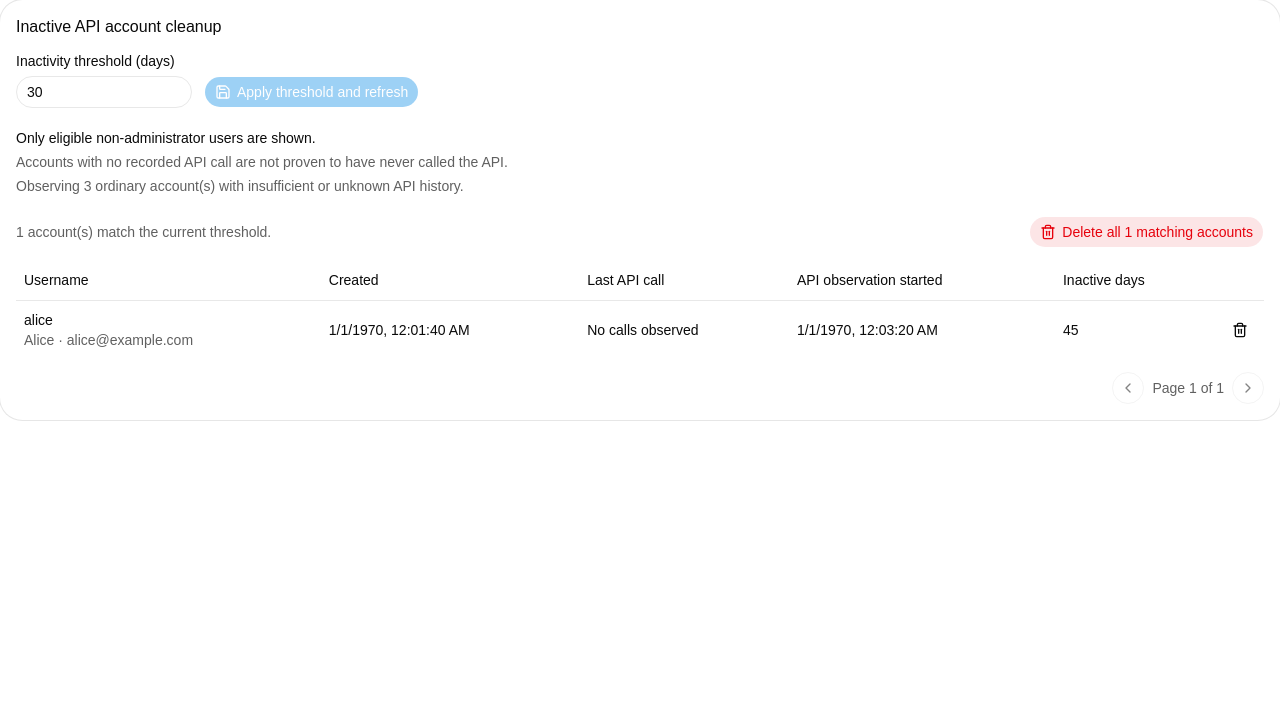
inactive API account cleanup › shows accurate partial cleanup counts
Click the button named "Delete account alice".
click(1240, 330)  # box [1224,314,1256,346]
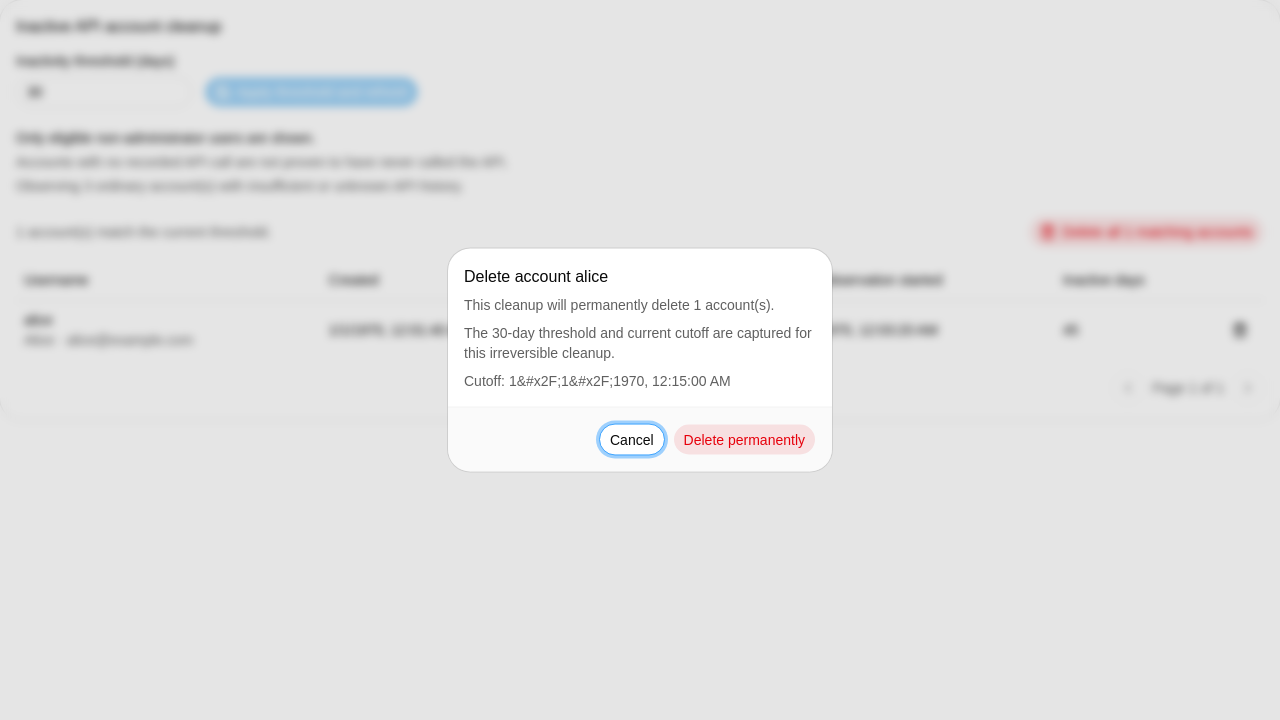
Click the button "Delete permanently".
click(744, 440)  # box [673,424,816,456]
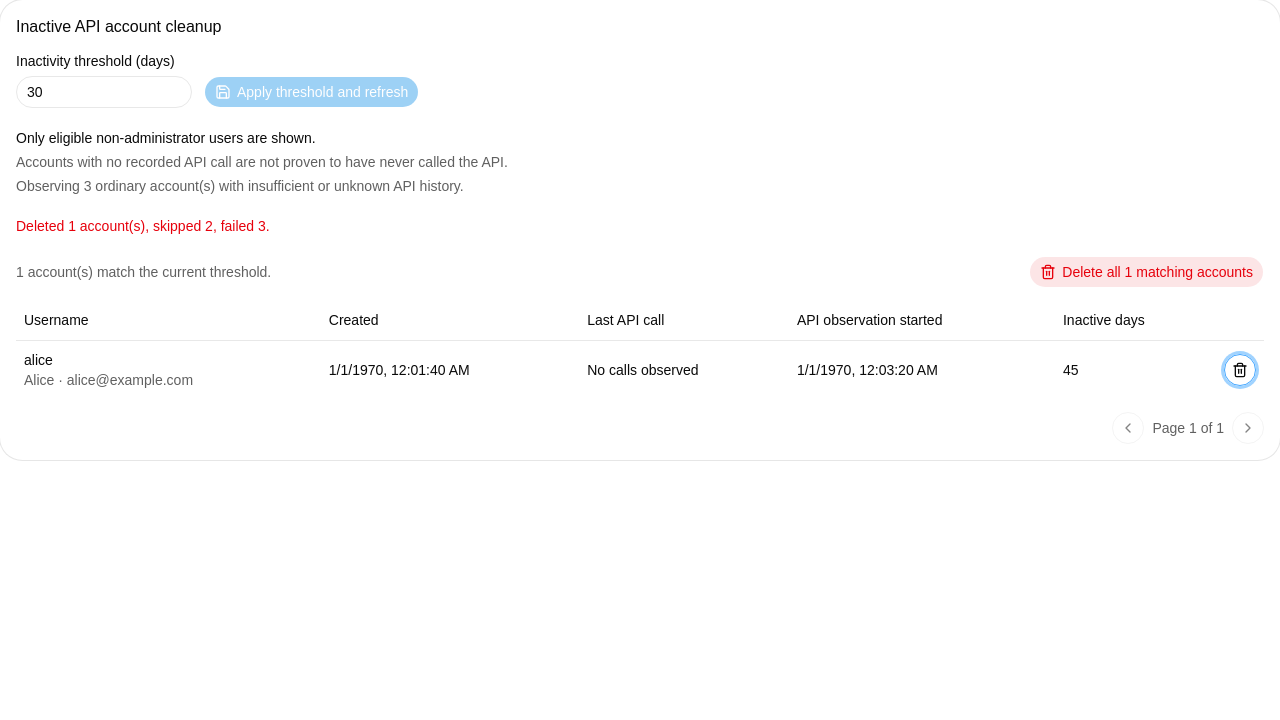
Check: the text "Deleted 1 account(s), skipped 2, failed 3." is shown, box [16,218,270,234]
